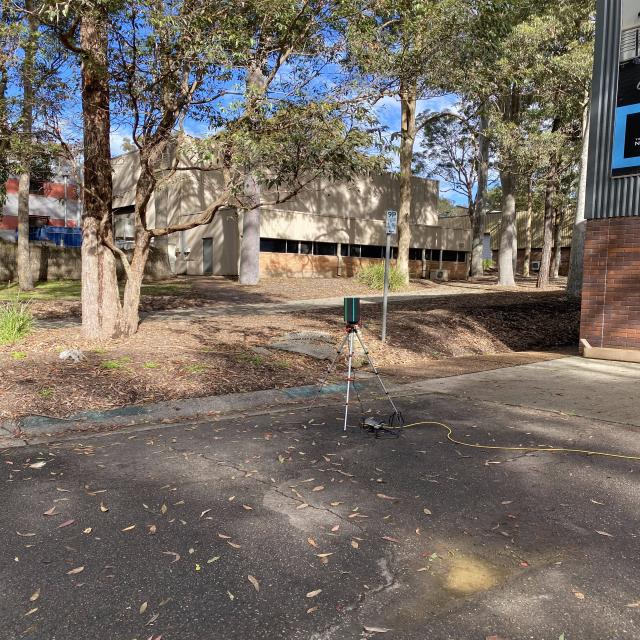matrix: (342, 296, 362, 323)
